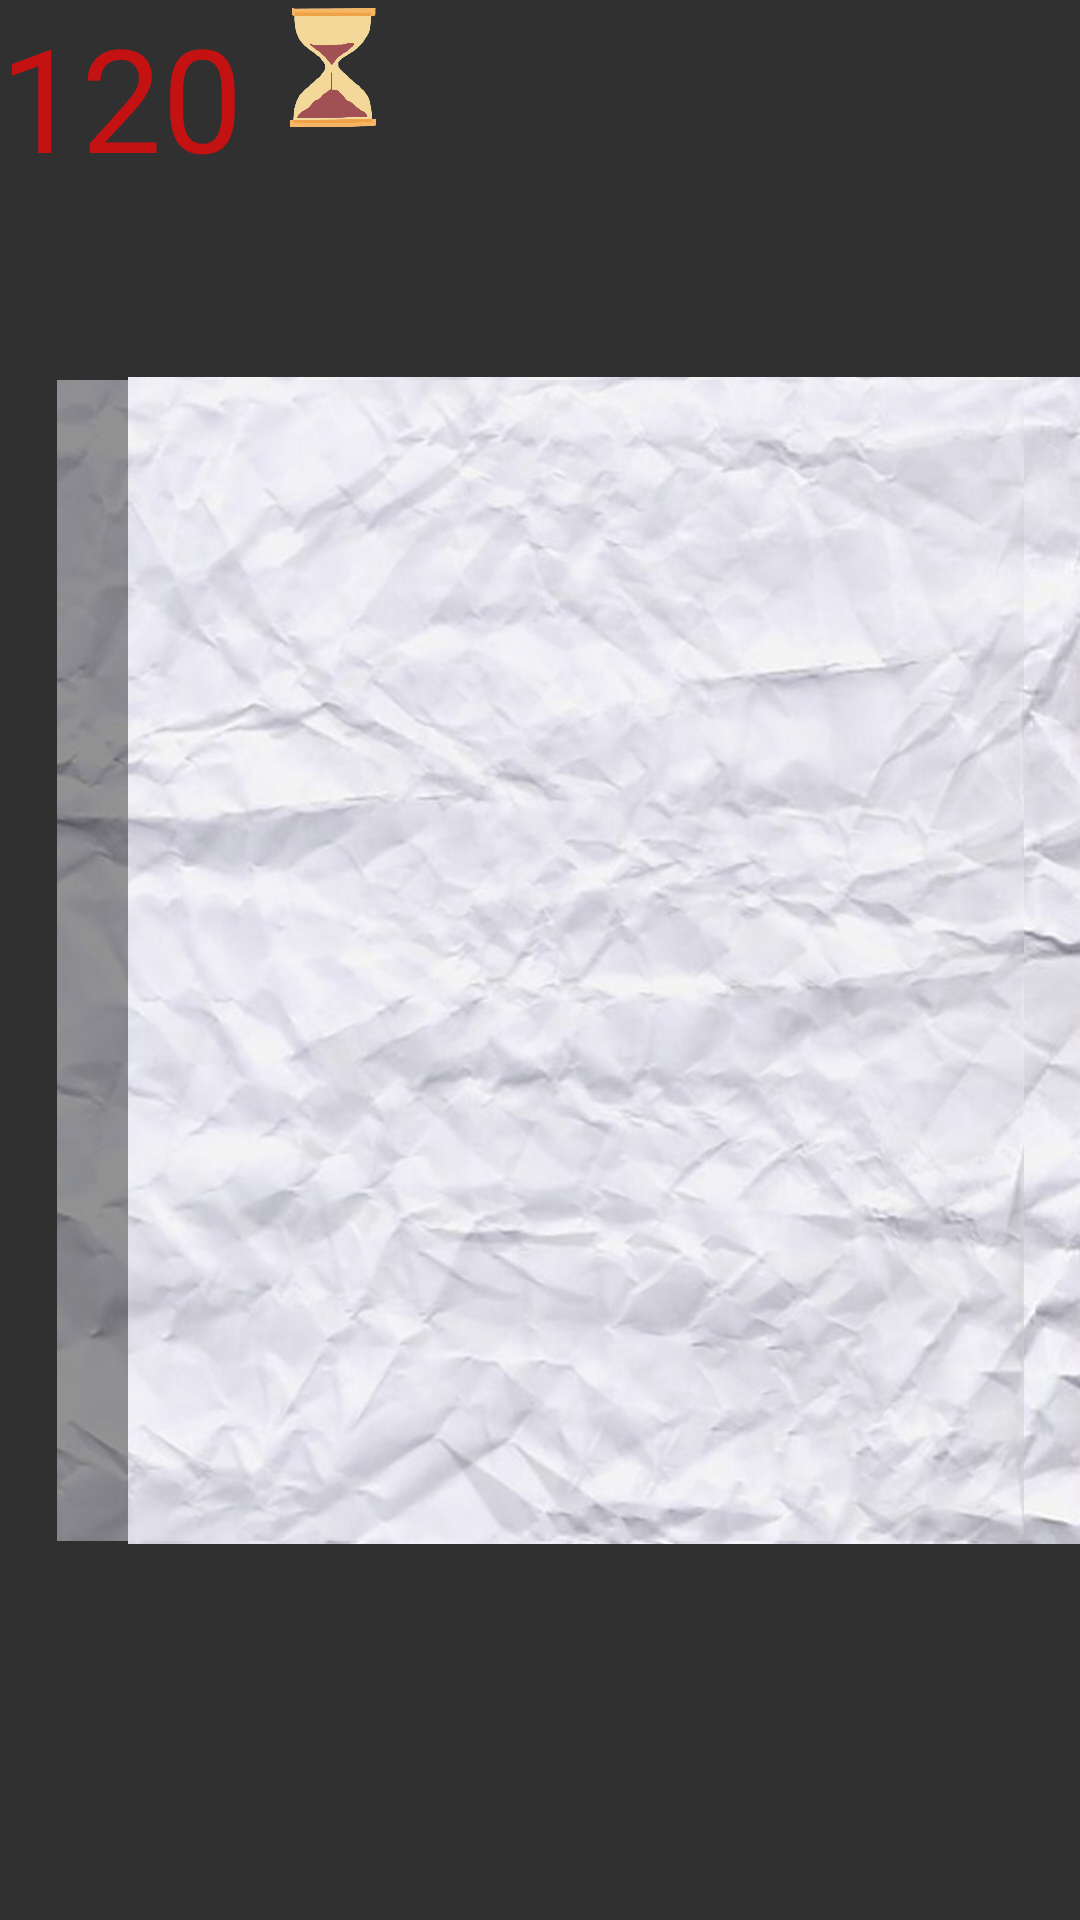

Icon click points for this 1080×1920 phone screenshot, format (x=x, y=y):
timer: (x=333, y=67)
